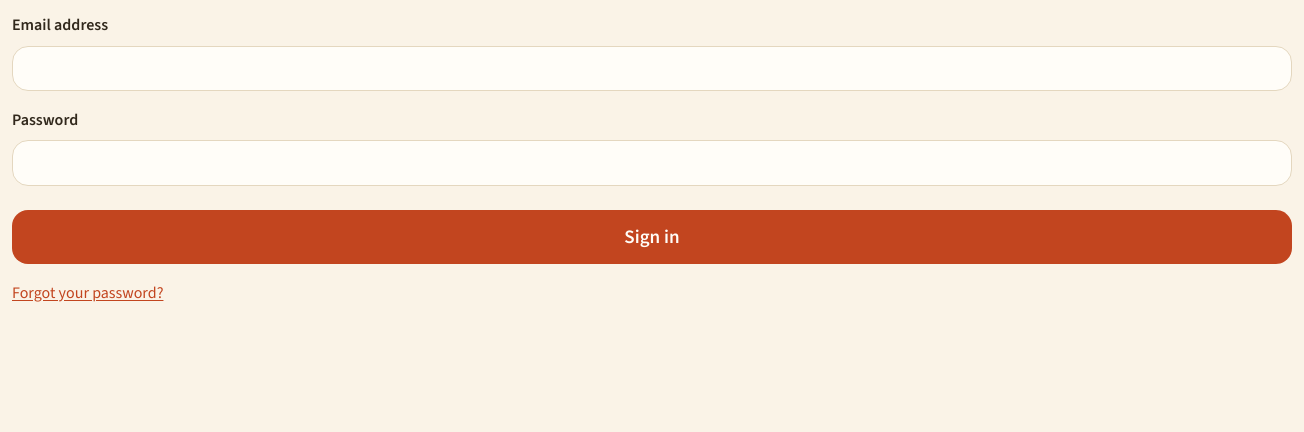
Test: LoginForm › shows the generic failure and does not navigate when the server rejects
The width and height of the screenshot is (1304, 432).
Type "parent@example.com" into the field labelled "Email address".
click(652, 68); type("parent@example.com")  # box [12,46,1292,91]
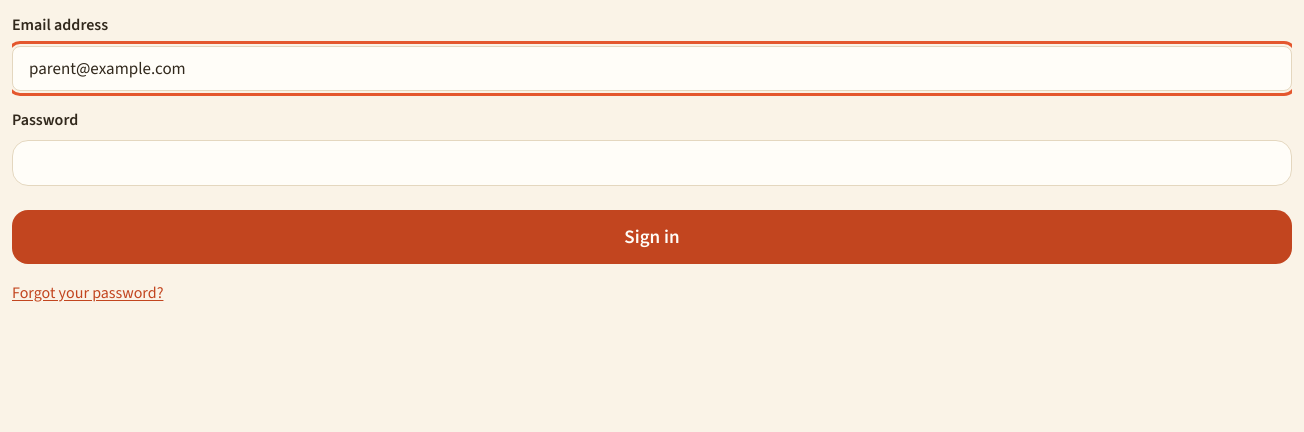
Type "wrongpass" into the password field labelled "Password".
click(652, 163); type("wrongpass")  # box [12,140,1292,186]
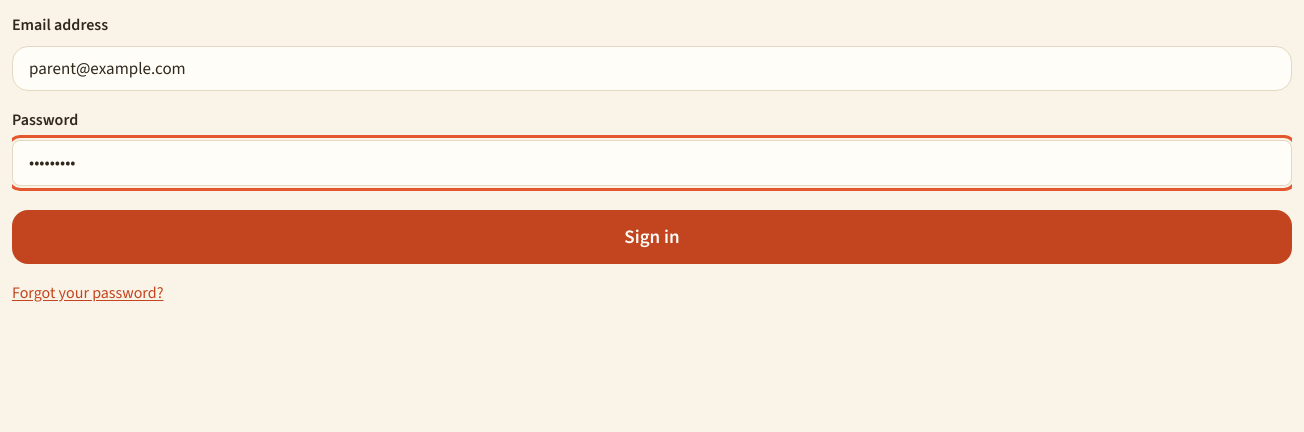
Click the button "Sign in".
click(652, 237)  # box [12,210,1292,264]
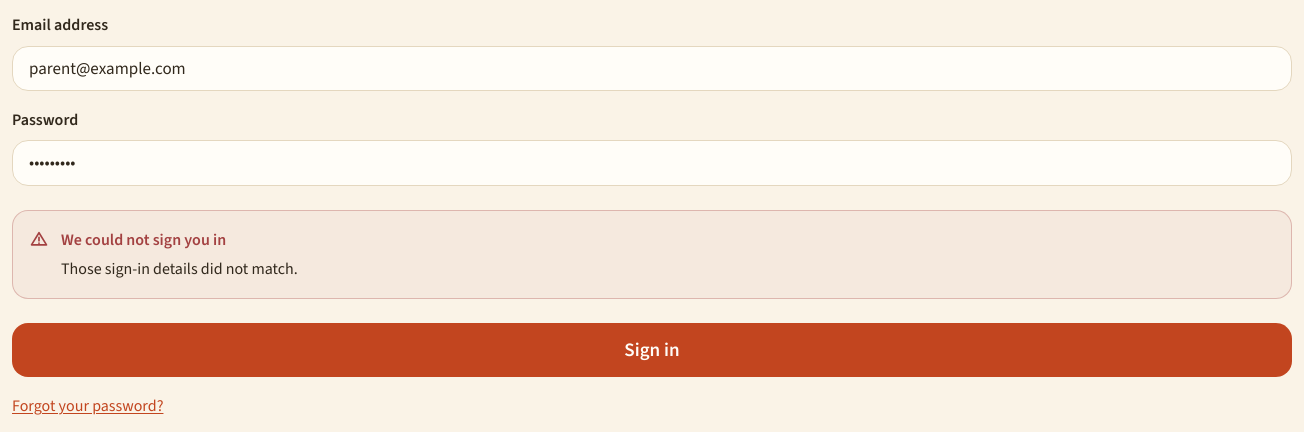
Check: the message shows "did not match", box [61,258,298,279]
